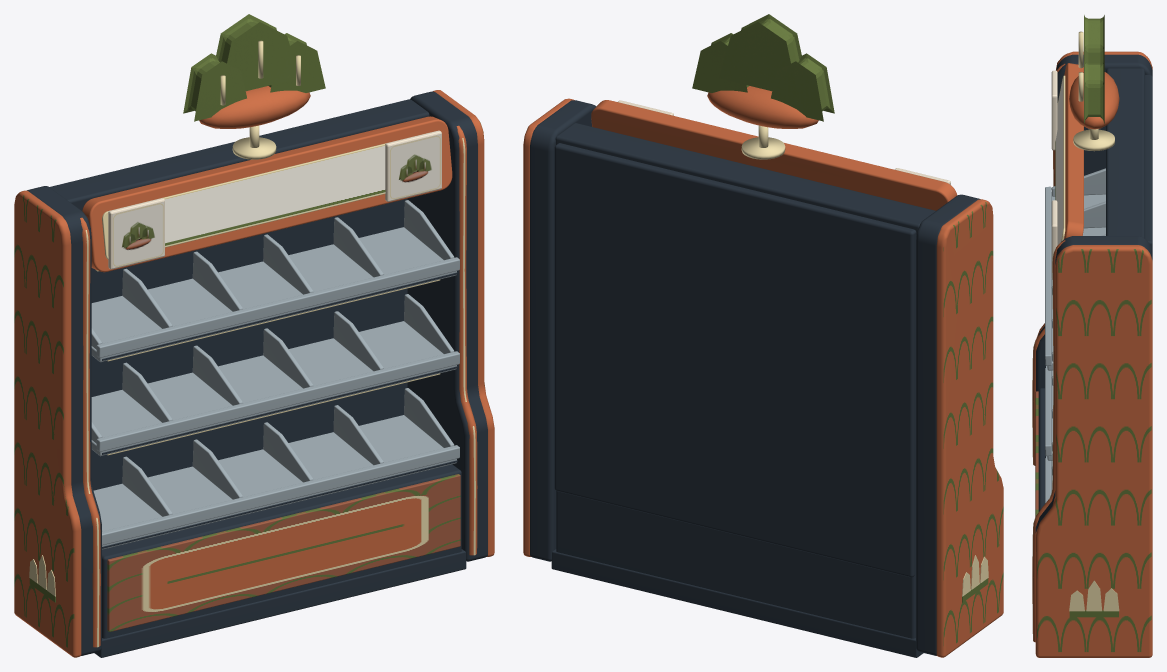
Rendered from TH_PREHISTORIC.fbx.
3 views of the same model, side by side, from view 1: azimuth 30°, elevation 25°; view 2: azimuth 150°, elevation 25°; view 3: azimuth 270°, elevation 25° (orthographic). The views are drawn at different scales.
Visible parts, largest first — view 1: BaseFrontInset, Left_PaintedPanel, BackPanel.001, Right_StructuralWall, Tray_01, Tray_02, Tray_03, HeaderFace, HeaderBorder, TopCrossRail, Left_StructuralWall, ClosedSolidBase (+36 smaller); view 2: BackPanel.001, Left_PaintedPanel, ClosedSolidBase, Right_StructuralWall, HeaderBorder, Left_StructuralWall, TopCrossRail, LowerPlinth, Dinosaur plate.001, Right_PaintedPanel, Dinosaur plate, Dinosaur ridge (+2 smaller); view 3: Right_PaintedPanel, TopCrossRail, HeaderBorder, Left_StructuralWall, HeaderFace, BackPanel.001, Dinosaur ridge, RightHousing, FrontLip_01, Dinosaur plate.002, Right_StructuralWall, Dinosaur plate.001 (+18 smaller).
Boxes of the visible parts, <box> form: BaseFrontInset: <box>107,474,460,631</box>; Left_PaintedPanel: <box>14,190,81,657</box>; BackPanel.001: <box>91,198,407,490</box>; Right_StructuralWall: <box>407,91,487,561</box>; Tray_01: <box>91,227,456,362</box>; Tray_02: <box>91,321,456,456</box>; Tray_03: <box>93,415,456,549</box>; HeaderFace: <box>102,133,427,259</box>; HeaderBorder: <box>82,116,452,272</box>; TopCrossRail: <box>49,99,429,210</box>; Left_StructuralWall: <box>27,186,101,655</box>; ClosedSolidBase: <box>102,464,461,638</box>; BackPanel.001: <box>554,143,916,577</box>; Left_PaintedPanel: <box>936,199,1003,657</box>; ClosedSolidBase: <box>556,491,915,638</box>; Right_StructuralWall: <box>530,100,596,561</box>; HeaderBorder: <box>591,100,957,210</box>; Left_StructuralWall: <box>916,194,980,655</box>; TopCrossRail: <box>555,123,935,237</box>; LowerPlinth: <box>551,549,923,657</box>; Dinosaur plate.001: <box>719,14,801,97</box>; Right_PaintedPanel: <box>523,98,574,556</box>; Dinosaur plate: <box>771,53,834,121</box>; Dinosaur ridge: <box>707,86,818,128</box>; Right_PaintedPanel: <box>1035,245,1152,657</box>; TopCrossRail: <box>1106,68,1144,238</box>; HeaderBorder: <box>1064,63,1083,239</box>; Left_StructuralWall: <box>1036,54,1152,391</box>; HeaderFace: <box>1055,75,1065,244</box>; BackPanel.001: <box>1145,75,1152,250</box>; Dinosaur ridge: <box>1069,72,1119,129</box>; RightHousing: <box>1032,240,1065,642</box>; FrontLip_01: <box>1045,186,1051,365</box>; Dinosaur plate.002: <box>1084,60,1104,123</box>; Right_StructuralWall: <box>1035,236,1152,532</box>; Dinosaur plate.001: <box>1084,15,1104,63</box>.
Bounding box in the file's own units: 3.62 × 4.68 × 0.9273.
